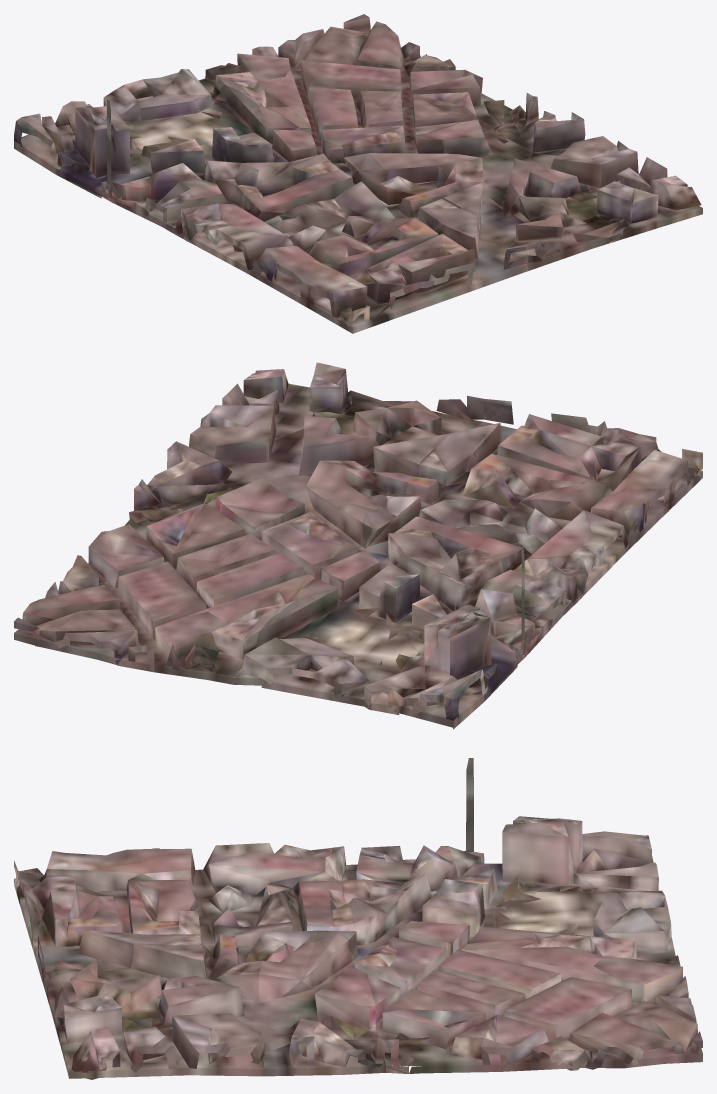
3 renders of one model, top to bottom at view 1: azimuth 30°, elevation 25°; view 2: azimuth 150°, elevation 25°; view 3: azimuth 270°, elevation 25°, orthographic. The views are drawn at different scales.
Parts seen in each view (by area): view 1: Mesh_0; view 2: Mesh_0; view 3: Mesh_0.
Part boxes in pixels (x1,y1,x2,y2): Mesh_0: (14,14,702,333); Mesh_0: (14,362,702,729); Mesh_0: (14,758,702,1079).
Size of the model in its own units: 532 by 124 by 659.
Materials: 2 (2 with a texture image).
